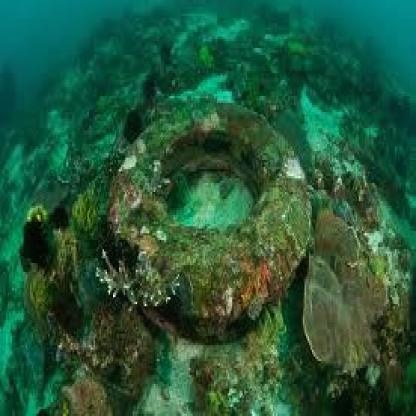tire: (98, 82, 316, 343)
